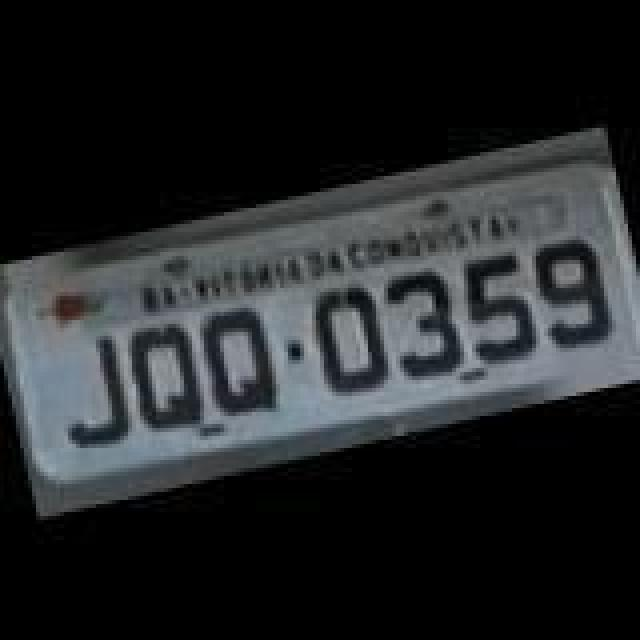3: (372, 258, 460, 382)
5: (452, 244, 540, 364)
9: (526, 222, 610, 354)
J: (44, 330, 132, 454)
O: (304, 278, 384, 394)
Q: (122, 316, 214, 436), (198, 298, 282, 414)
